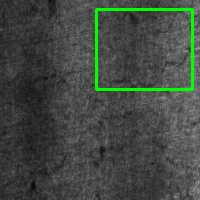crazing: (96, 9, 192, 89)
